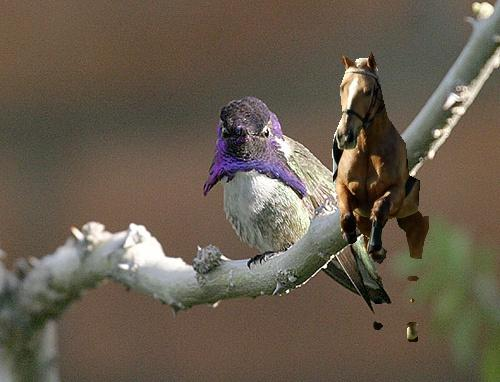tampered: (333, 53, 429, 342)
